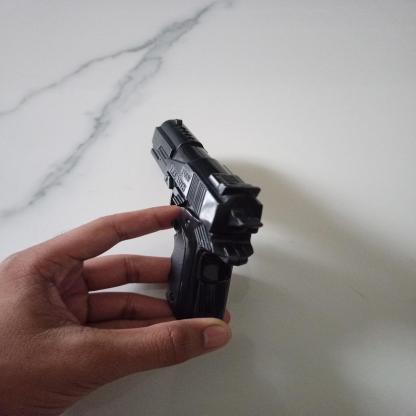handgun: (152, 117, 267, 320)
